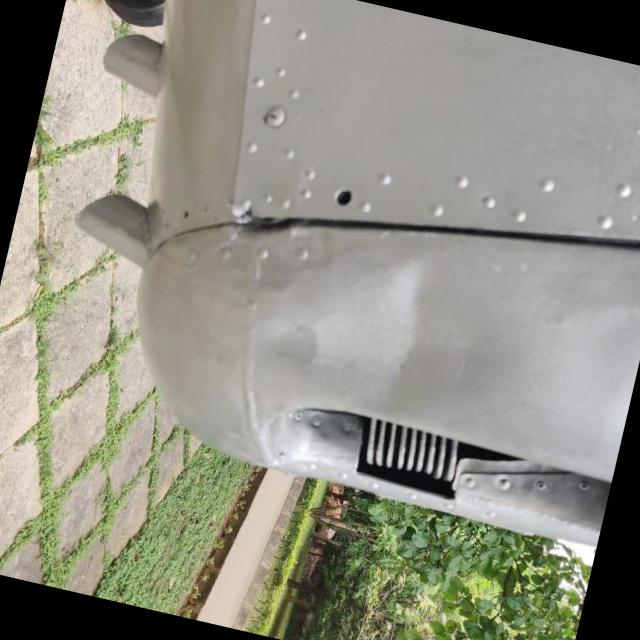Missing Fastener: (332, 185, 354, 208)
dent: (302, 225, 523, 448)
